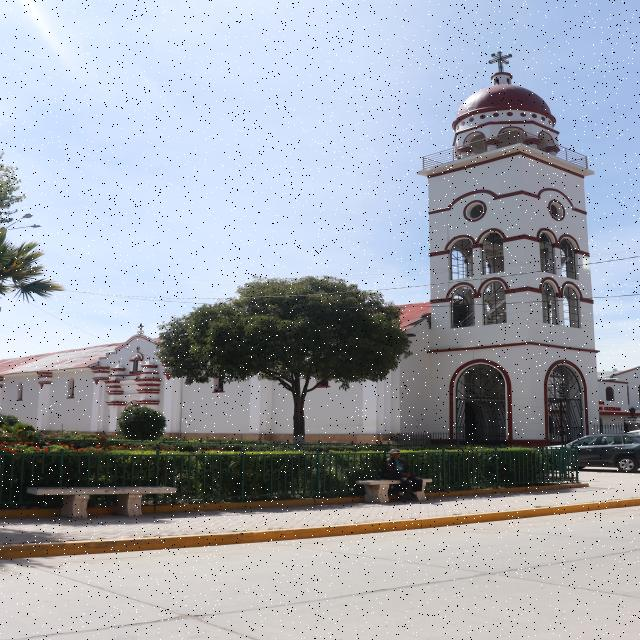CAMPANARIO: (412, 148, 604, 351)
CUPULA: (442, 64, 578, 164)
TORRES: (395, 32, 632, 476)
colonial-architecture-: (0, 49, 640, 480)
